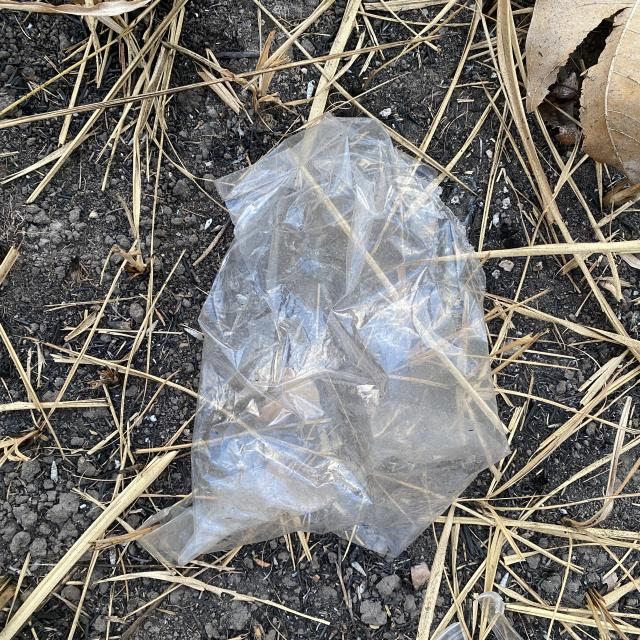Single-layer Plastic: (140, 115, 509, 565)
